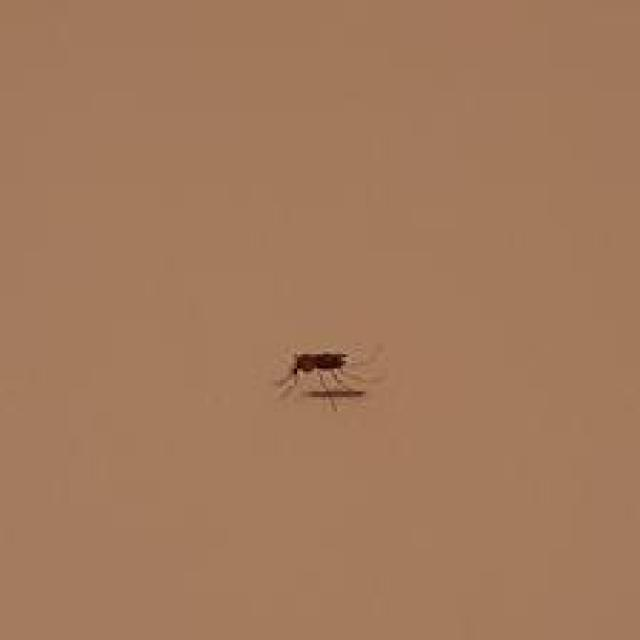Culex: (273, 347, 370, 413)
